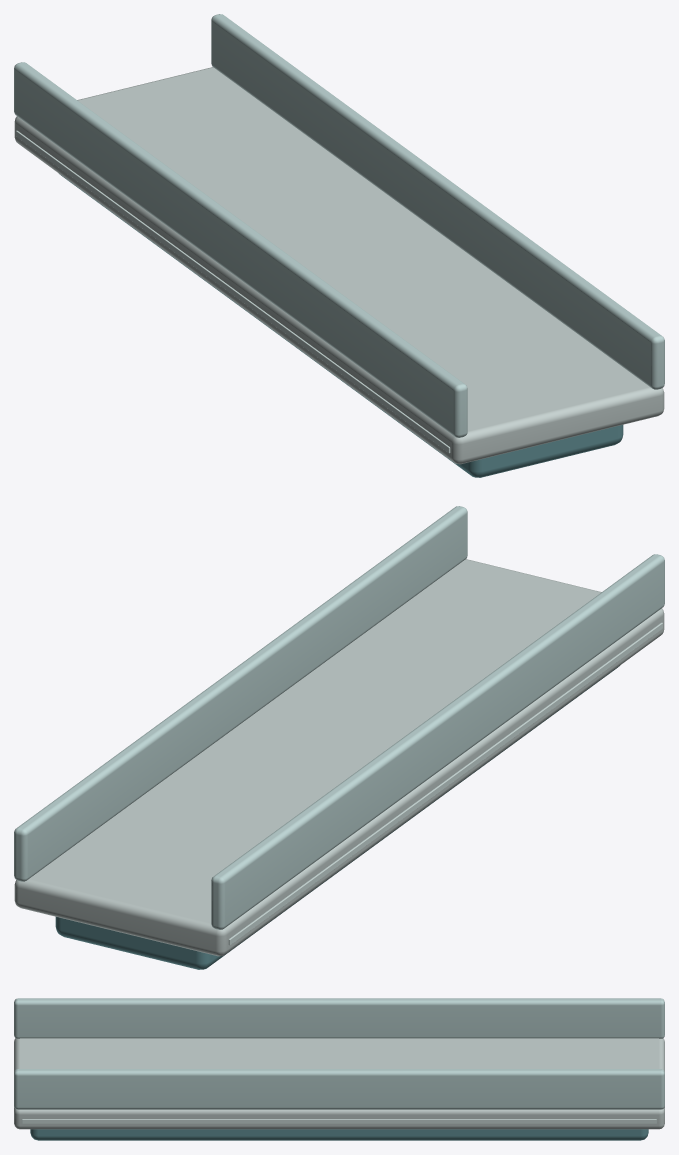
File: bridge.glb
The picture shows the model from 3 angles, top to bottom: view 1: azimuth 30°, elevation 25°; view 2: azimuth 150°, elevation 25°; view 3: azimuth 270°, elevation 25°; orthographic projection. The views are drawn at different scales.
Visible parts, largest first — view 1: bridge; view 2: bridge; view 3: bridge.
Boxes of the visible parts, x1,y1,x2,y2 form: bridge: [14, 14, 664, 477]; bridge: [14, 506, 664, 969]; bridge: [14, 998, 664, 1140].
Size of the model in its own units: 4.46 by 2.2 by 16.
